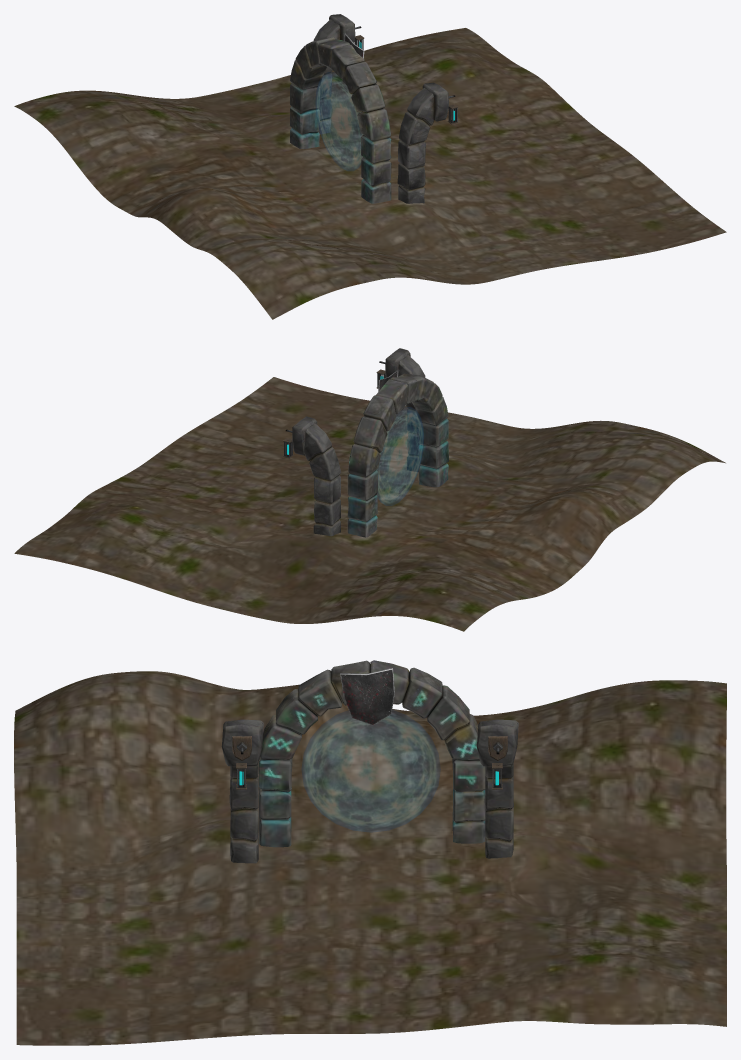
File: Muspelheim_Magic_Portal.glb
3 views of the same model, one above another, from view 1: azimuth 30°, elevation 25°; view 2: azimuth 150°, elevation 25°; view 3: azimuth 270°, elevation 25° (orthographic). The views are drawn at different scales.
Parts seen in each view (by area): view 1: Object_6, Object_8, Object_9, Object_4; view 2: Object_6, Object_8, Object_9, Object_4; view 3: Object_6, Object_8, Object_4, Object_9, Object_3, Object_11.
Boxes of the visible parts, x1,y1,x2,y2 form: Object_6: (14, 28, 726, 319); Object_8: (290, 37, 391, 203); Object_9: (313, 14, 448, 203); Object_4: (316, 72, 362, 170); Object_6: (14, 377, 725, 631); Object_8: (347, 373, 448, 537); Object_9: (292, 348, 425, 536); Object_4: (377, 407, 423, 505); Object_6: (14, 671, 726, 1045); Object_8: (259, 660, 485, 847); Object_4: (302, 710, 440, 831); Object_9: (221, 719, 518, 863); Object_3: (340, 668, 394, 724); Object_11: (232, 736, 507, 789).
Size of the model in its own units: 55.01 by 18.25 by 54.18.
Materials: 6 (6 with a texture image).
